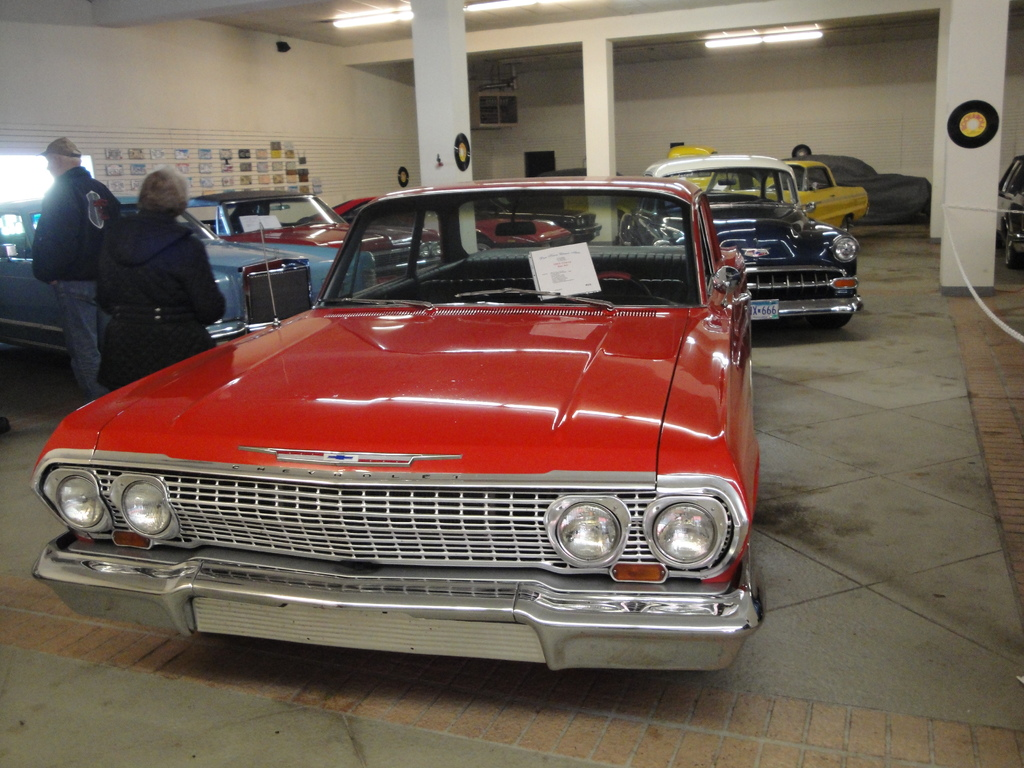Car: (0, 144, 870, 669), (997, 153, 1023, 267)
